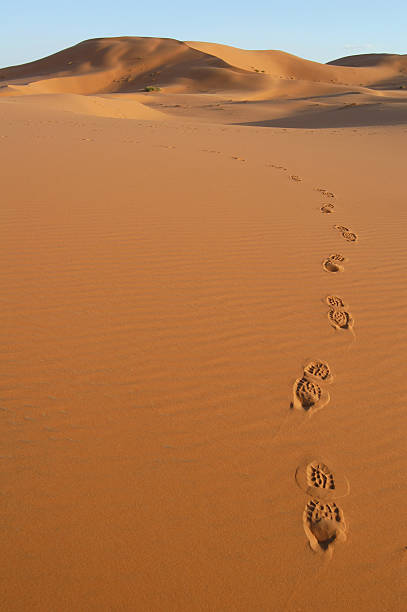human_foot_print: (303, 498, 346, 552), (295, 458, 349, 499), (291, 375, 329, 414), (304, 359, 332, 382), (328, 309, 353, 329), (322, 253, 345, 272), (334, 225, 357, 241), (325, 295, 345, 309), (315, 188, 334, 197), (320, 202, 334, 213)
